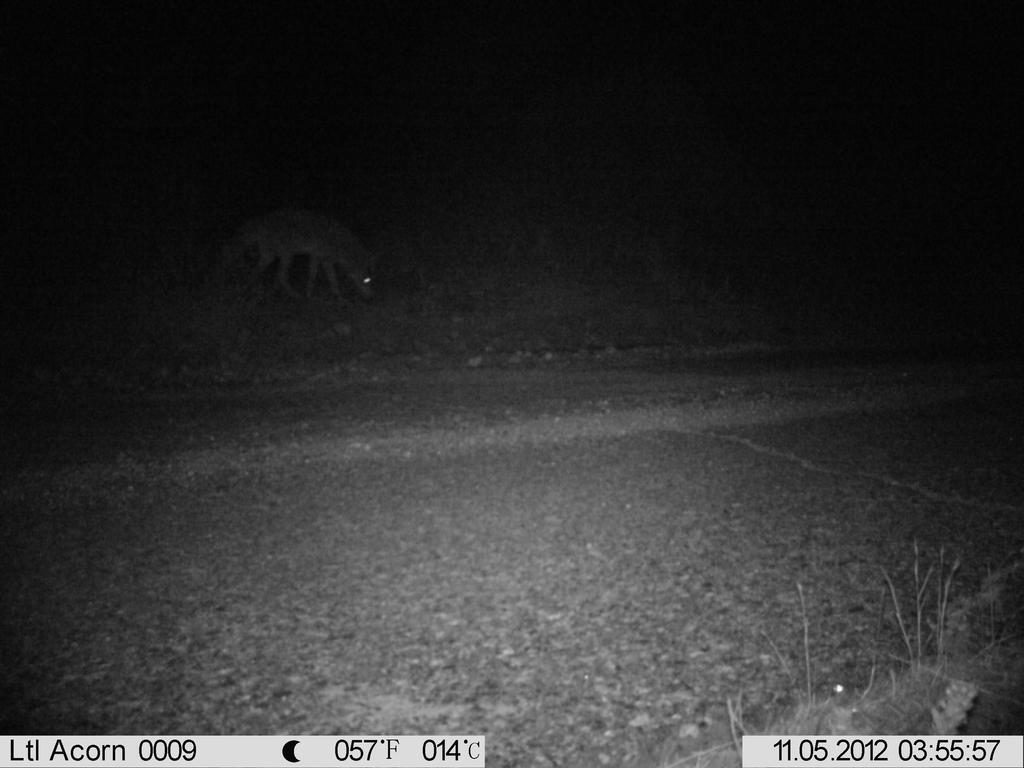coyote: (210, 203, 385, 320)
